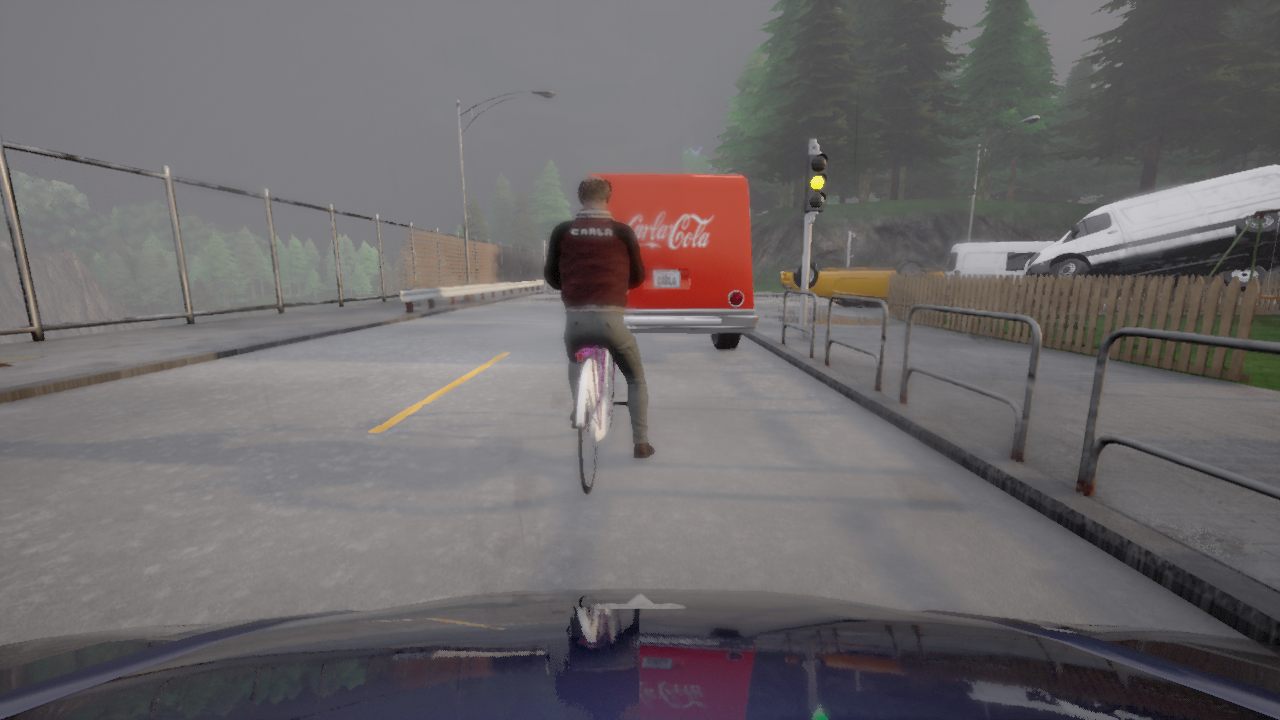cyclist: (0, 588, 1279, 719), (1023, 165, 1279, 309), (588, 174, 758, 349), (572, 346, 627, 494), (781, 259, 945, 307), (946, 241, 1054, 292)
pedestrian: (1271, 270, 1279, 309), (1172, 288, 1176, 301)
